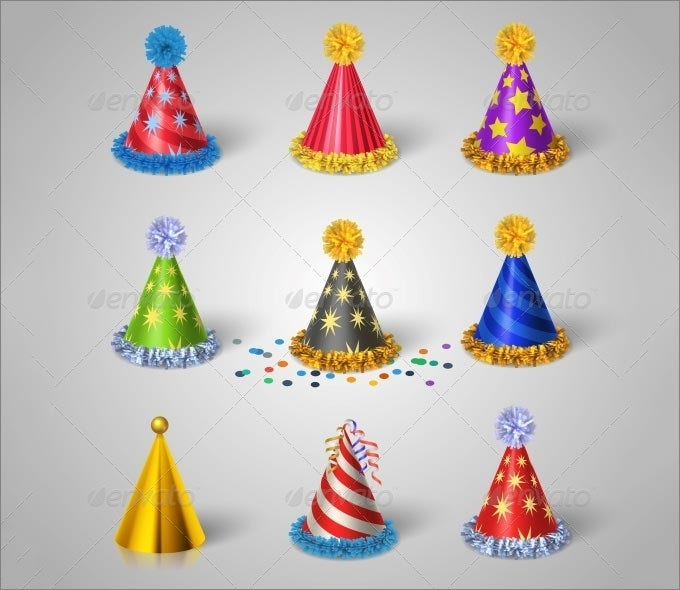cone: (114, 433, 207, 554), (301, 429, 387, 542), (299, 258, 387, 353), (122, 254, 208, 350), (474, 444, 558, 542), (301, 61, 386, 156), (474, 253, 558, 349), (473, 62, 558, 156), (124, 65, 209, 156)
sphere: (150, 415, 168, 432)
